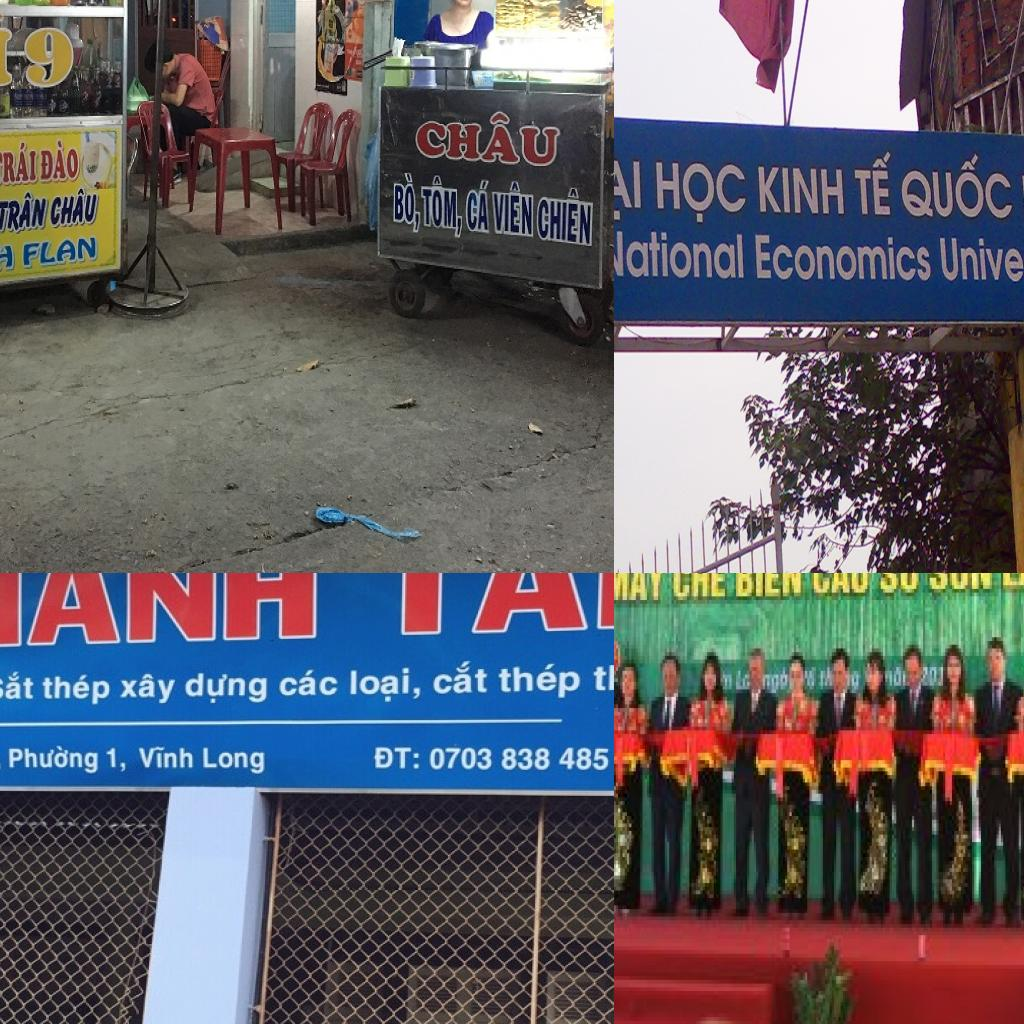text: (0, 573, 319, 650), (363, 573, 614, 636), (752, 230, 934, 284), (899, 146, 1015, 224), (416, 108, 564, 167), (614, 226, 747, 282), (652, 157, 748, 227), (934, 233, 1024, 301), (754, 164, 848, 218), (431, 746, 611, 774), (536, 185, 596, 247), (21, 25, 75, 89), (850, 144, 894, 220), (500, 664, 582, 702), (421, 174, 468, 239), (182, 672, 268, 707), (349, 668, 424, 706), (8, 746, 100, 776), (20, 236, 98, 269), (42, 672, 112, 708), (492, 181, 535, 238), (48, 186, 102, 231), (614, 152, 646, 222), (431, 660, 491, 696), (0, 190, 50, 233), (37, 138, 82, 184), (736, 573, 805, 603), (119, 673, 178, 707), (391, 173, 423, 235), (202, 746, 268, 776), (276, 670, 341, 698), (614, 573, 667, 607), (671, 573, 731, 603), (0, 140, 38, 187), (465, 177, 493, 238), (812, 573, 872, 600), (927, 573, 994, 596), (138, 746, 196, 770), (371, 746, 422, 771), (0, 670, 37, 701), (878, 573, 920, 596), (591, 662, 614, 695), (106, 746, 129, 774), (0, 239, 15, 277), (1000, 573, 1024, 592), (930, 667, 941, 690)
